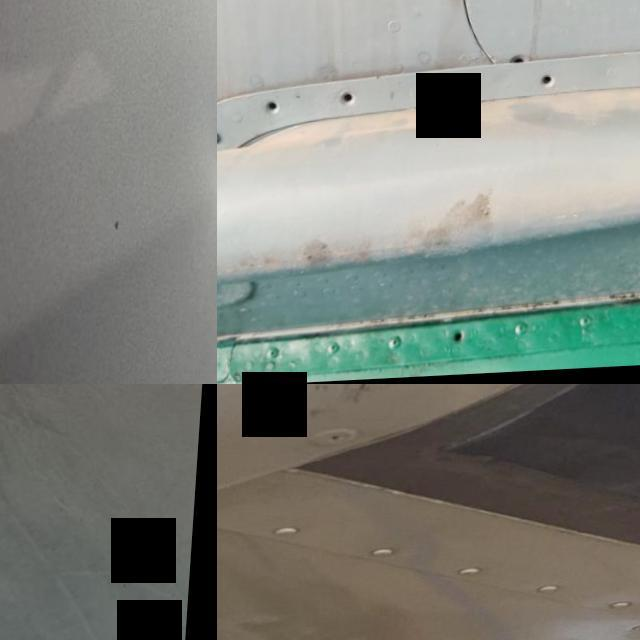Missing_Fastener: (498, 37, 550, 85), (446, 69, 492, 113), (331, 76, 375, 120), (256, 86, 297, 128), (536, 66, 574, 101)
